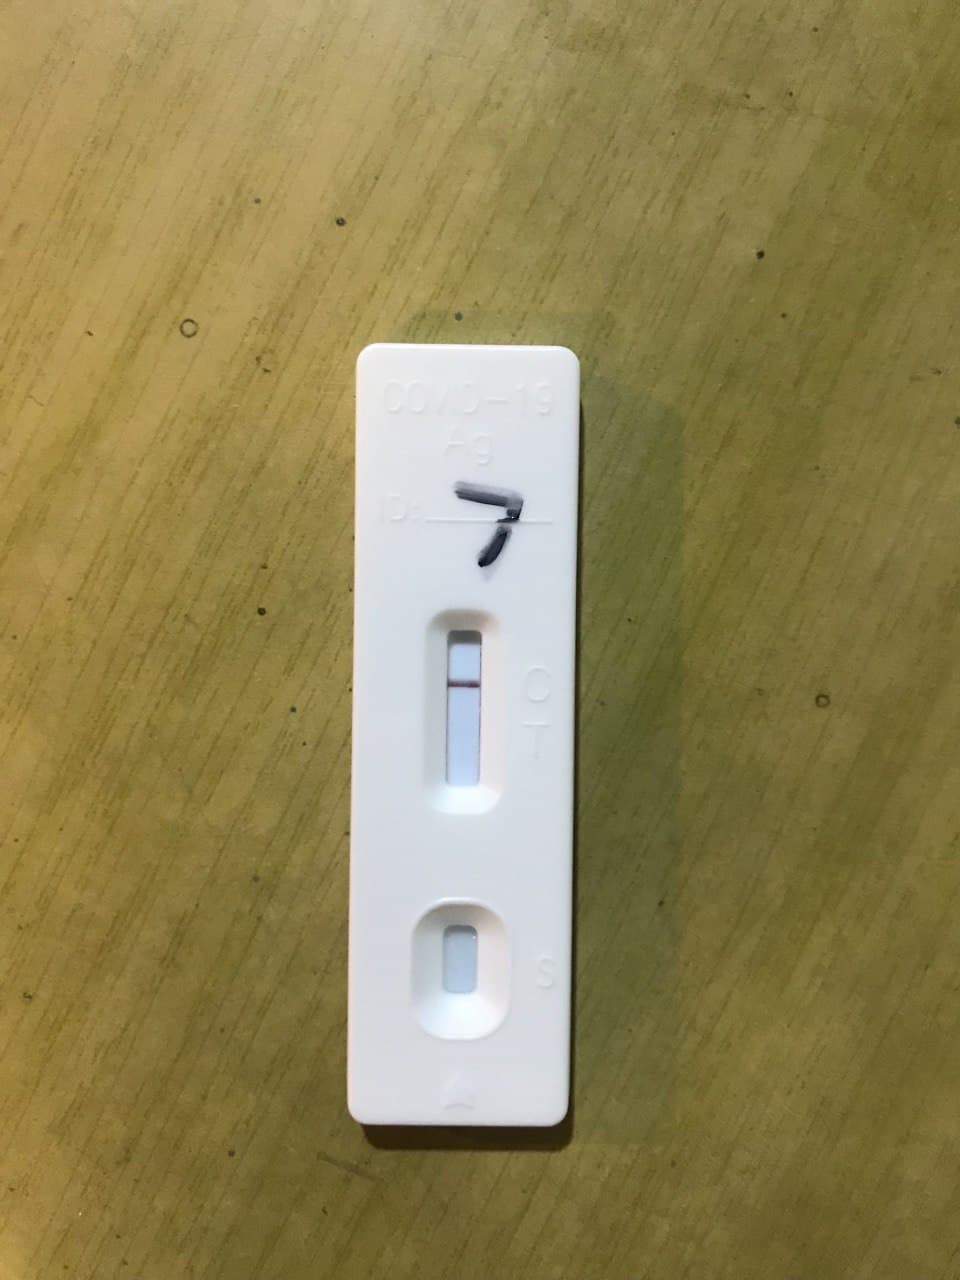rapid_test: (343, 336, 576, 1119)
